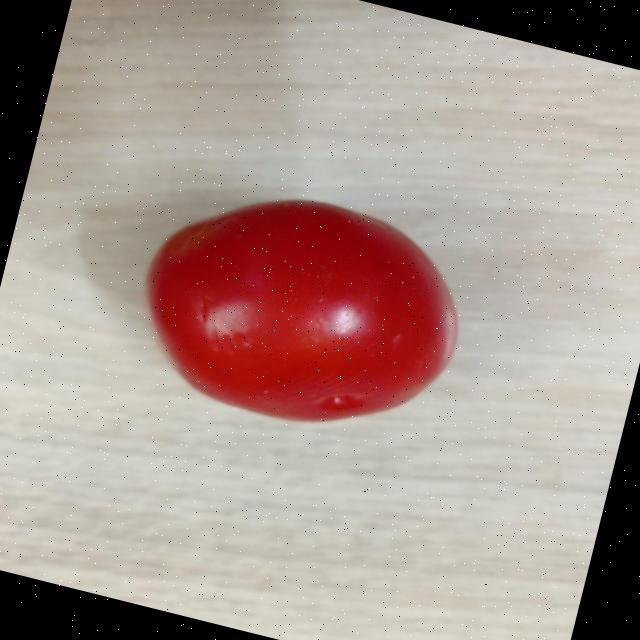Ripe: (119, 162, 484, 460)
